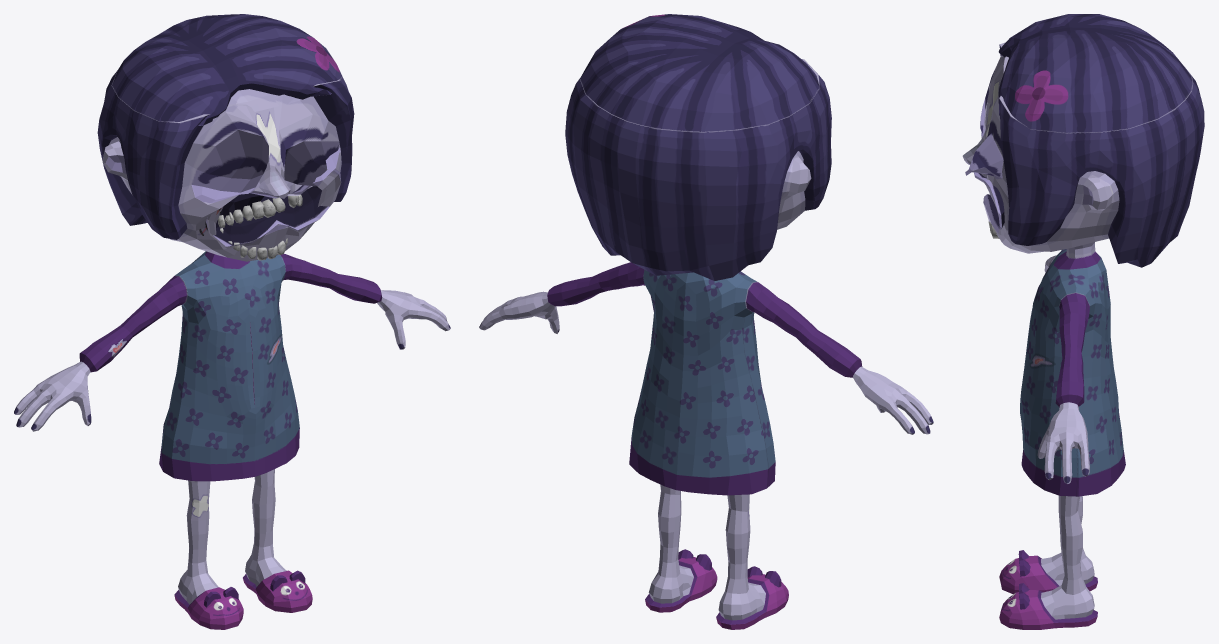
The model's file is Zomby.fbx.
3 renders of one model, left to right at view 1: azimuth 30°, elevation 25°; view 2: azimuth 150°, elevation 25°; view 3: azimuth 270°, elevation 25°, orthographic. The views are drawn at different scales.
Parts seen in each view (by area): view 1: eye_L, cup_of_head, hand_r, hand_l; view 2: eye_L, cup_of_head, hand_r, hand_l; view 3: eye_L, cup_of_head, hand_l.
Boxes of the visible parts, <box> form: eye_L: <box>97,70,354,629</box>; cup_of_head: <box>112,14,342,125</box>; hand_r: <box>14,275,186,431</box>; hand_l: <box>280,253,450,349</box>; eye_L: <box>565,59,831,629</box>; cup_of_head: <box>580,14,819,131</box>; hand_r: <box>746,282,933,434</box>; hand_l: <box>479,262,645,333</box>; eye_L: <box>962,42,1204,629</box>; cup_of_head: <box>998,14,1192,132</box>; hand_l: <box>1037,293,1089,483</box>.
Bounding box in the file's own units: 0.8981 × 0.43 × 1.11.
